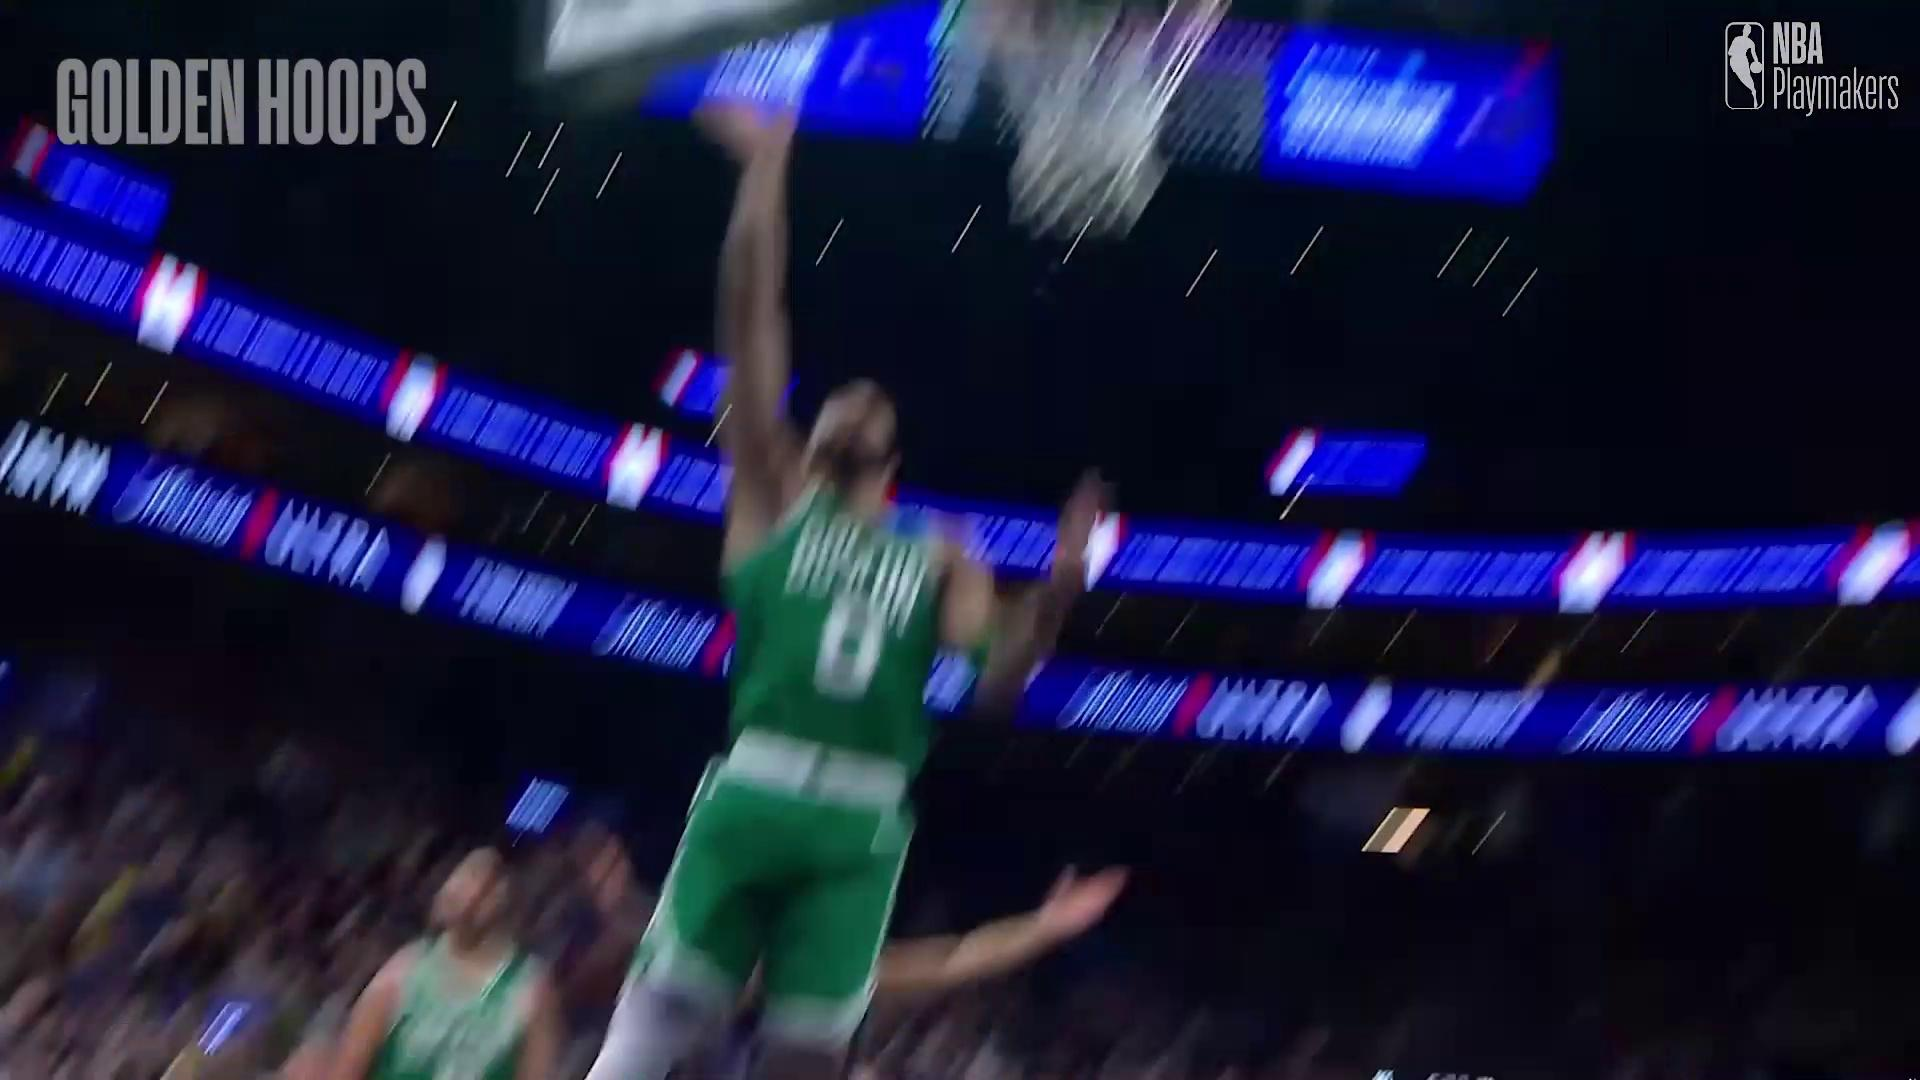hoop: (994, 0, 1209, 237)
